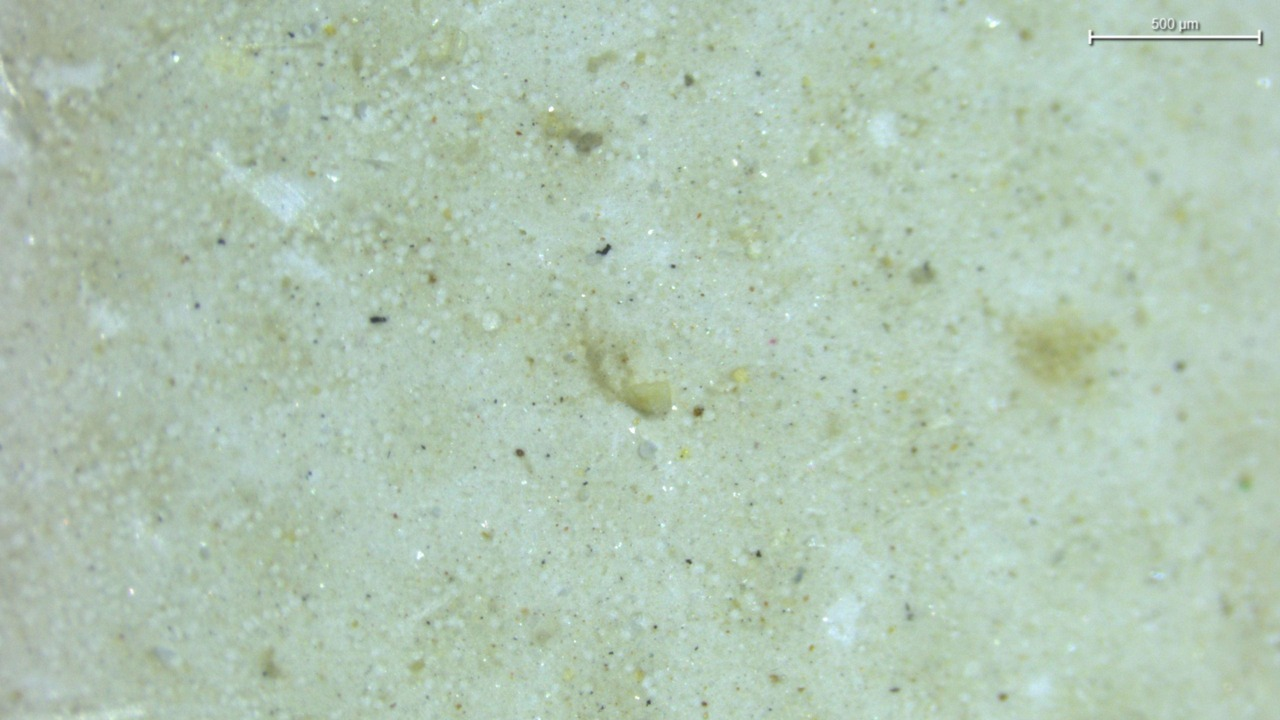microplastic_fragment: (621, 382, 671, 415)
